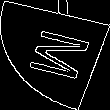M_E: (17, 26, 93, 84)
